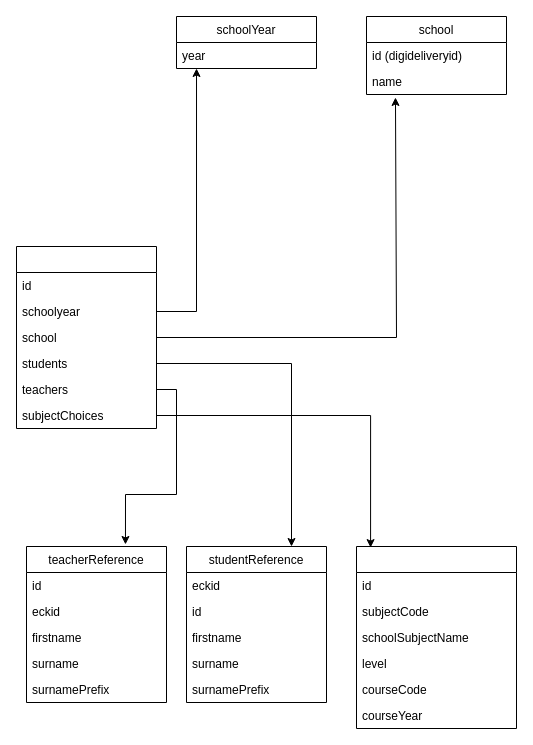
The diagram is 533 pixels wide and 745 high, and some of its shapes have lost their labels. The shapes that lost their labels are listed below. From the top down, each one's box as (x1, y1, x2, y2) in pixels, then its label:
(16, 246, 156, 428): group
(356, 546, 516, 728): SubjectChoice
